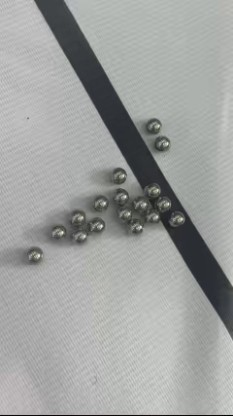ironball: (45, 220, 68, 244), (108, 163, 129, 188), (108, 187, 130, 210), (142, 114, 164, 136), (25, 242, 43, 267), (91, 191, 111, 213), (127, 192, 148, 212), (140, 206, 163, 223), (69, 225, 89, 244), (144, 178, 161, 200), (166, 209, 184, 229), (67, 209, 88, 226), (87, 213, 106, 231), (115, 205, 133, 223), (151, 134, 170, 151), (127, 220, 144, 238), (154, 195, 170, 213)
